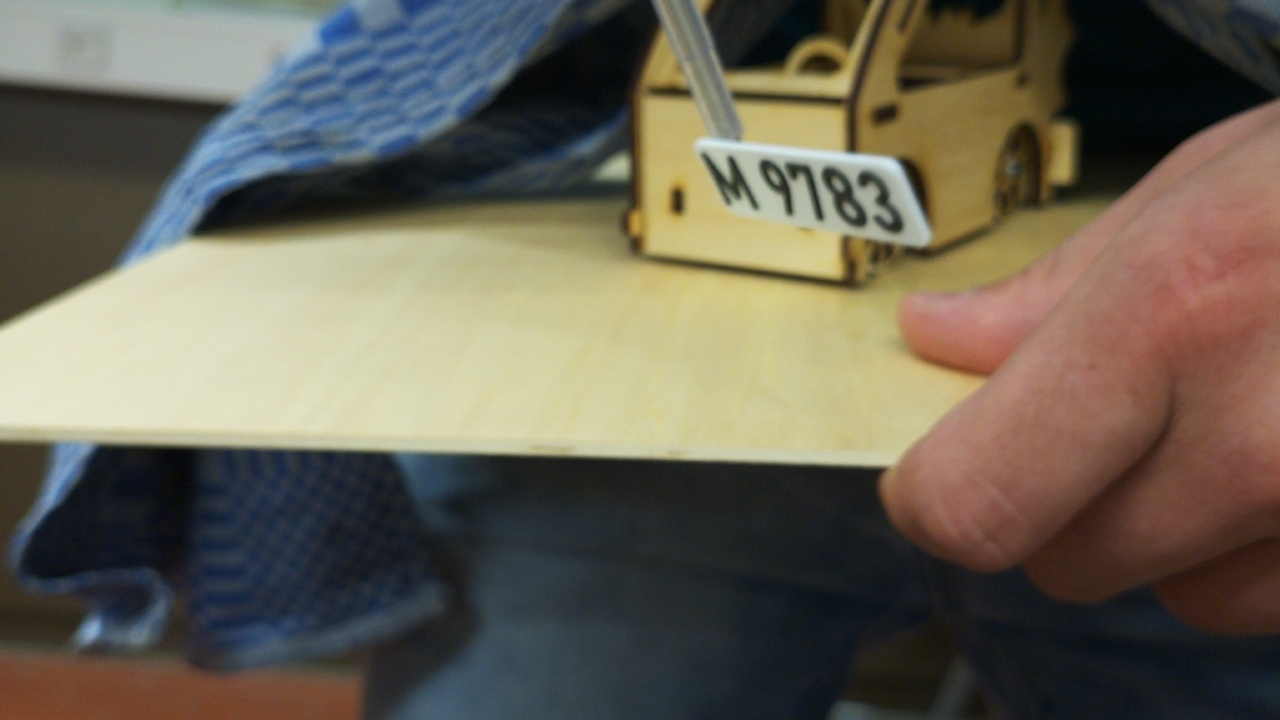license_plate: (693, 136, 936, 250)
